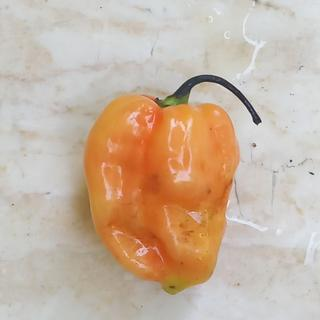Grade-A: (76, 90, 244, 298)
